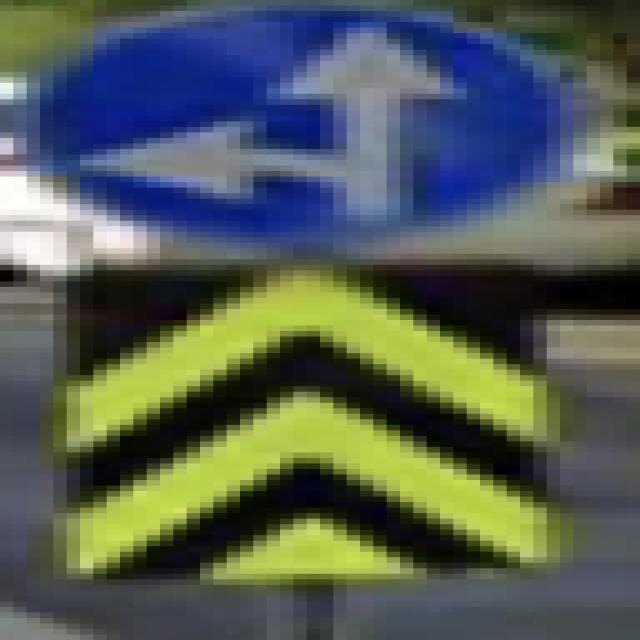Straight or Left: (21, 7, 581, 250)
